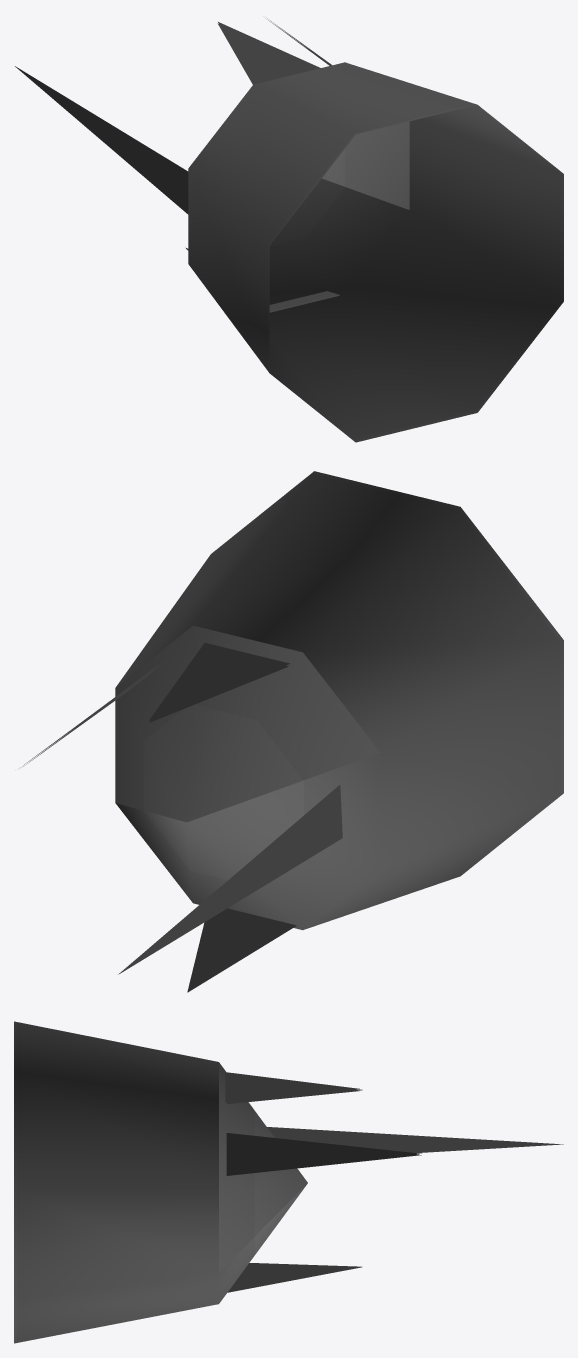
File: stat_bottom0.glb
3 views of the same model, one above another, from view 1: azimuth 30°, elevation 25°; view 2: azimuth 150°, elevation 25°; view 3: azimuth 270°, elevation 25° (orthographic). The views are drawn at different scales.
Visible parts, largest first — view 1: group_13; view 2: group_13; view 3: group_13.
Boxes of the visible parts, x1,y1,x2,y2 form: group_13: [15, 18, 563, 442]; group_13: [23, 471, 563, 992]; group_13: [14, 1021, 563, 1343].
Size of the model in its own units: 7567 by 7568 by 13970.
Materials: 1 (1 with a texture image).
